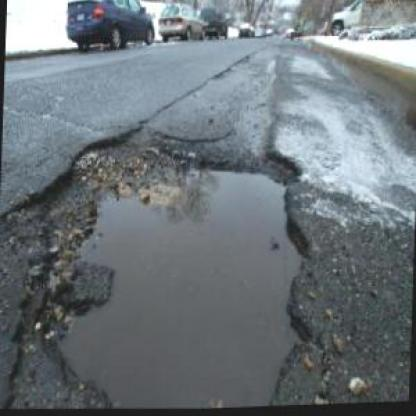pothole: (3, 112, 324, 415)
